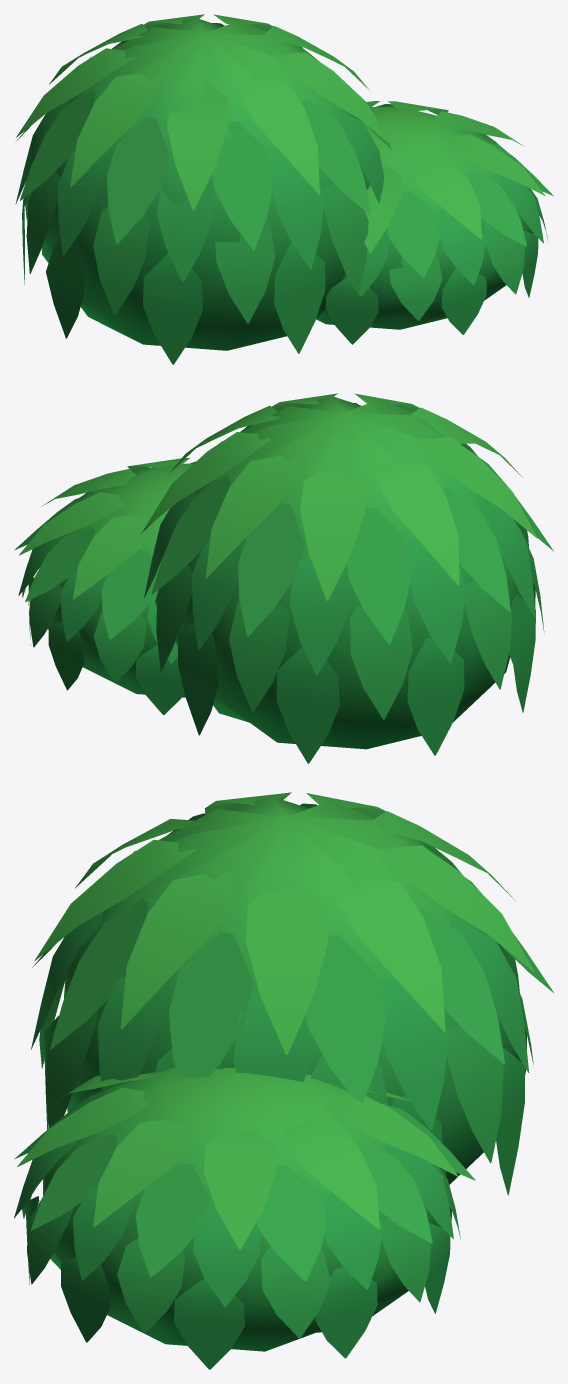
File: Bush2.fbx
3 renders of one model, top to bottom at view 1: azimuth 30°, elevation 25°; view 2: azimuth 150°, elevation 25°; view 3: azimuth 270°, elevation 25°, orthographic. The views are drawn at different scales.
Parts seen in each view (by area): view 1: Sphere.013; view 2: Sphere.013; view 3: Sphere.013.
Part boxes in pixels (x1=…): Sphere.013: x1=15, y1=14, x2=553, y2=364; Sphere.013: x1=14, y1=393, x2=553, y2=763; Sphere.013: x1=14, y1=792, x2=553, y2=1369.
Size of the model in its own units: 310 by 182 by 228.
